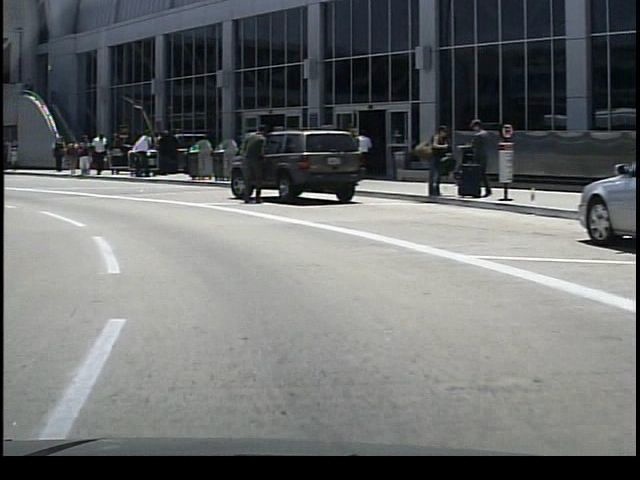person: (445, 114, 489, 198), (413, 118, 446, 201), (237, 115, 266, 208), (350, 125, 373, 186), (127, 125, 151, 180), (86, 129, 108, 179), (71, 132, 90, 181), (47, 134, 65, 176)
